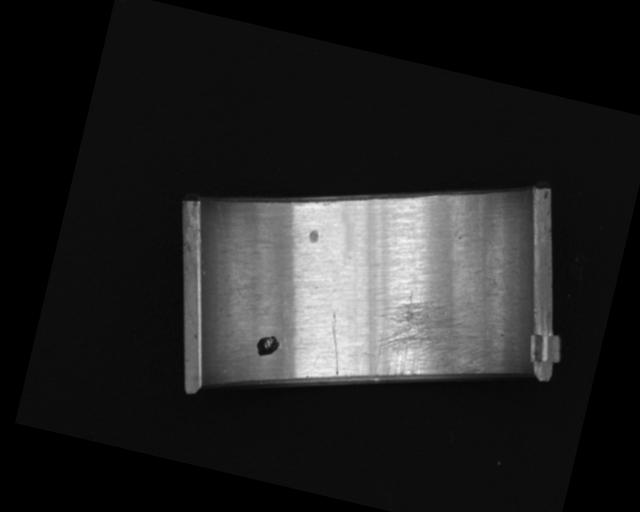blot: (253, 333, 282, 360)
bruise: (306, 227, 320, 245)
nick: (198, 201, 264, 298), (317, 310, 352, 375)
scratch: (367, 287, 496, 401)
